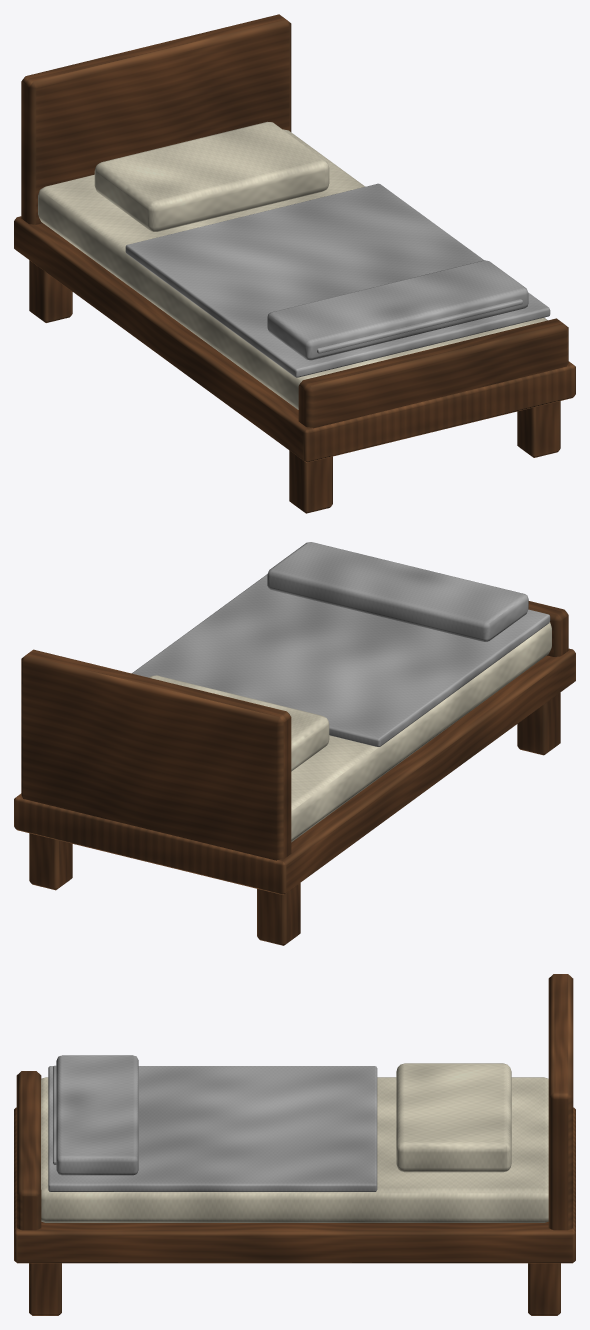
File: Furn_Bed_SingleTower.fbx
3 renders of one model, top to bottom at view 1: azimuth 30°, elevation 25°; view 2: azimuth 150°, elevation 25°; view 3: azimuth 270°, elevation 25°, orthographic. The views are drawn at different scales.
Parts seen in each view (by area): view 1: Furn_Bed_SingleTower; view 2: Furn_Bed_SingleTower; view 3: Furn_Bed_SingleTower.
Boxes of the visible parts, x1=… form: Furn_Bed_SingleTower: x1=14, y1=14, x2=575, y2=513; Furn_Bed_SingleTower: x1=14, y1=542, x2=575, y2=945; Furn_Bed_SingleTower: x1=14, y1=974, x2=575, y2=1315.
Size of the model in its own units: 1.1 by 0.9 by 2.05.
Materials: 3 (3 with a texture image).
